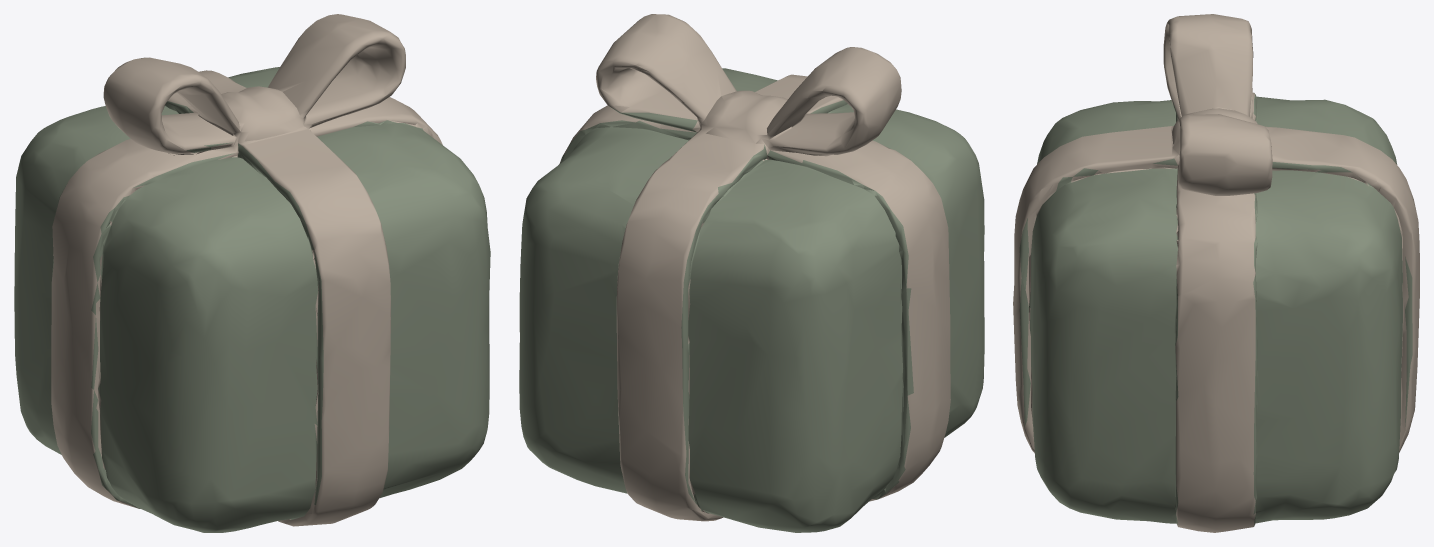
The model's file is gift_01.full.glb.
The picture shows the model from 3 angles, left to right: view 1: azimuth 30°, elevation 25°; view 2: azimuth 150°, elevation 25°; view 3: azimuth 270°, elevation 25°; orthographic projection. The views are drawn at different scales.
Size of the model in its own units: 1.42 by 1.58 by 1.4.
